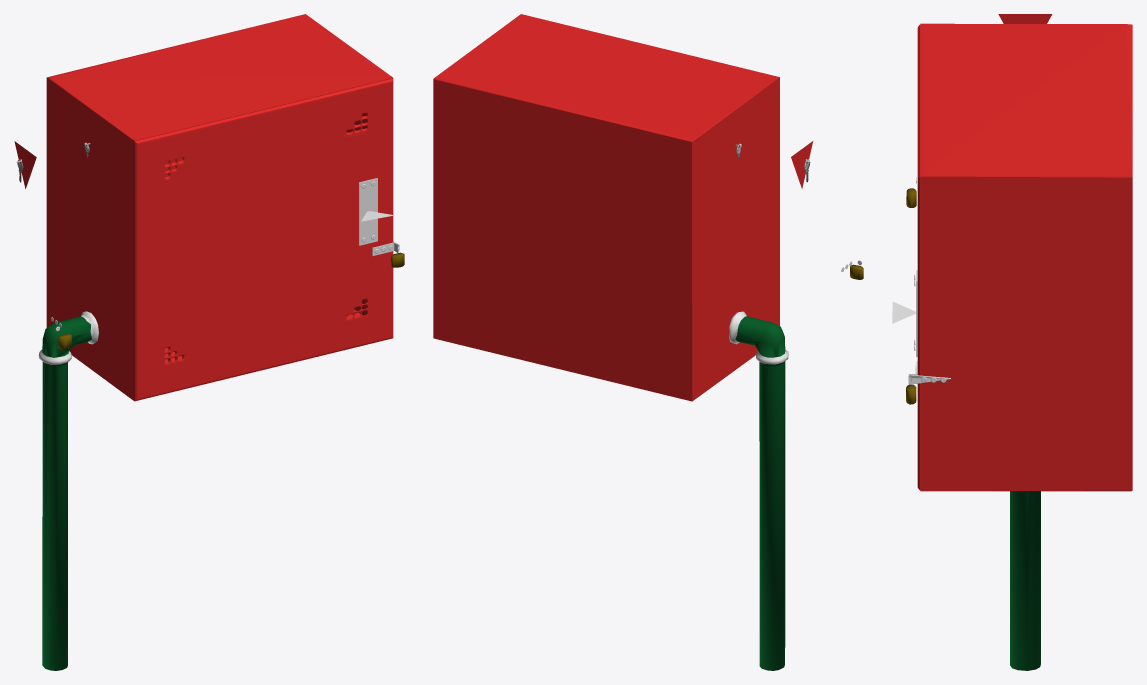
File: fire-cabinet.glb
3 renders of one model, left to right at view 1: azimuth 30°, elevation 25°; view 2: azimuth 150°, elevation 25°; view 3: azimuth 270°, elevation 25°, orthographic. The views are drawn at different scales.
Visible parts, largest first — view 1: fire-cabinet; view 2: fire-cabinet; view 3: fire-cabinet.
Part boxes in pixels (x1,y1,x2,y2): fire-cabinet: [14, 14, 404, 670]; fire-cabinet: [433, 14, 863, 670]; fire-cabinet: [892, 14, 1132, 670].
Bounding box in the file's own units: 0.9926 × 1.5 × 0.4937.
25 materials, 1 textured.
